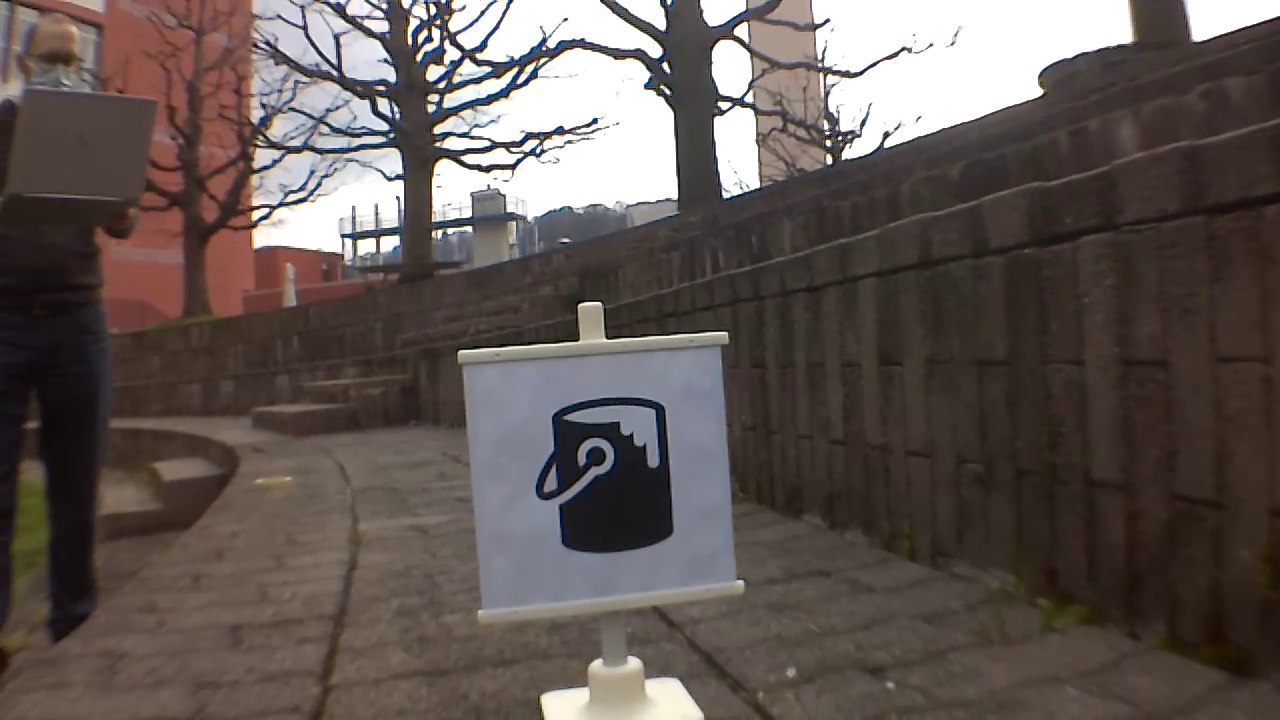bucket: (534, 394, 675, 555)
